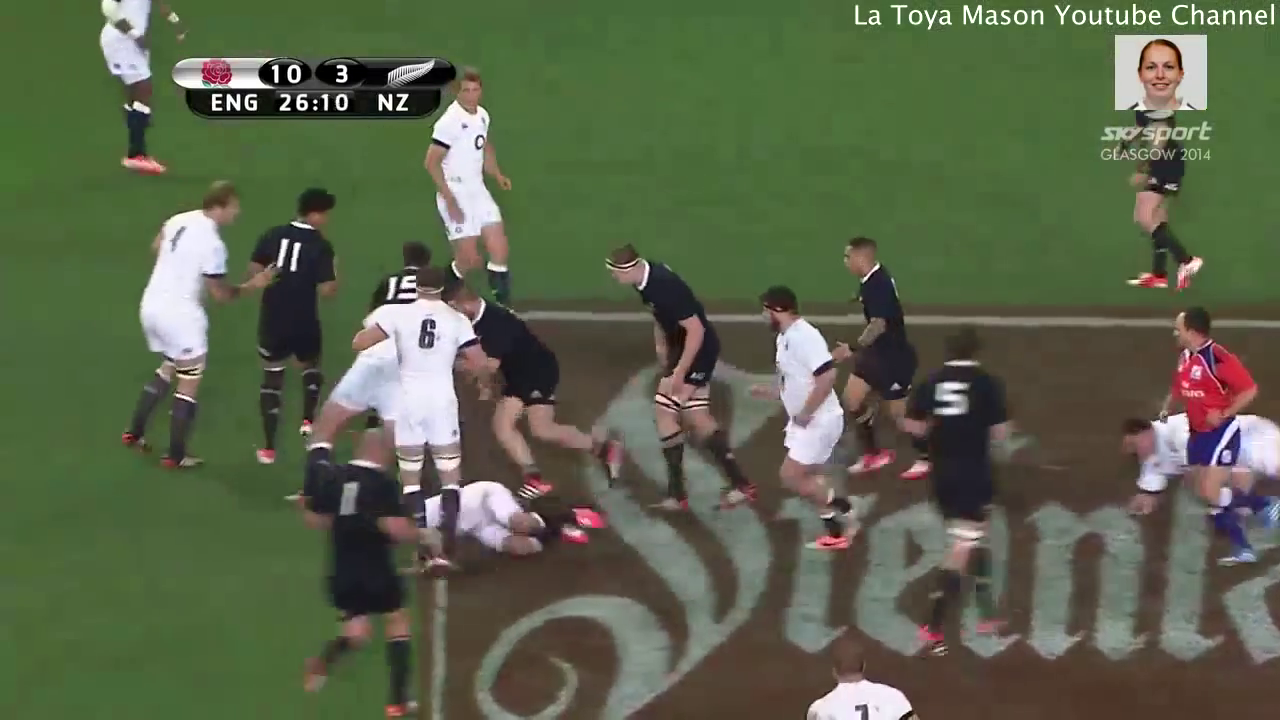player: (102, 172, 281, 477), (345, 267, 506, 590), (877, 306, 1020, 661), (598, 236, 760, 523), (287, 421, 434, 720), (441, 281, 629, 509), (743, 279, 885, 559), (233, 171, 365, 463), (1149, 307, 1280, 574), (818, 231, 941, 492), (416, 51, 529, 320), (1101, 393, 1280, 524), (76, 1, 199, 184), (1112, 89, 1214, 299), (791, 636, 925, 720)
